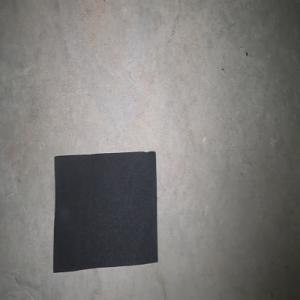PaintChip: (52, 150, 158, 272)
